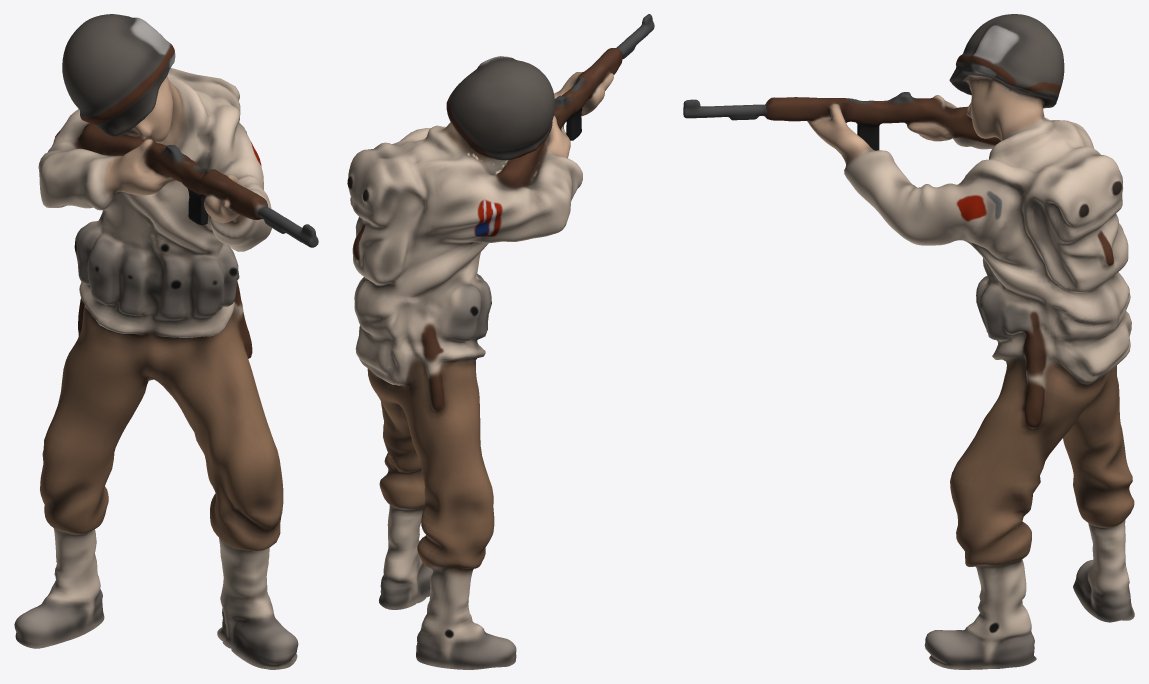
The model's file is solider1.glb.
3 views of the same model, side by side, from view 1: azimuth 30°, elevation 25°; view 2: azimuth 150°, elevation 25°; view 3: azimuth 270°, elevation 25° (orthographic). The views are drawn at different scales.
Visible parts, largest first — view 1: 14070_WWII_Soldier_with_Rife_v1_L1; view 2: 14070_WWII_Soldier_with_Rife_v1_L1; view 3: 14070_WWII_Soldier_with_Rife_v1_L1.
Boxes of the visible parts, <box> form: 14070_WWII_Soldier_with_Rife_v1_L1: <box>14,14,318,669</box>; 14070_WWII_Soldier_with_Rife_v1_L1: <box>347,14,654,669</box>; 14070_WWII_Soldier_with_Rife_v1_L1: <box>683,14,1134,669</box>.
Size of the model in its own units: 0.4939 by 1.37 by 0.9592.
1 material, 1 textured.
